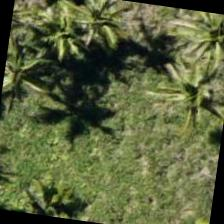Kelapa_Sawit: (131, 43, 223, 146), (22, 0, 123, 81), (0, 20, 61, 117), (171, 8, 223, 77)
